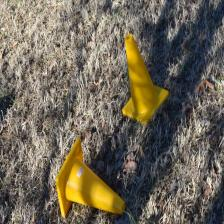cone: (56, 138, 126, 218), (122, 34, 169, 127)
